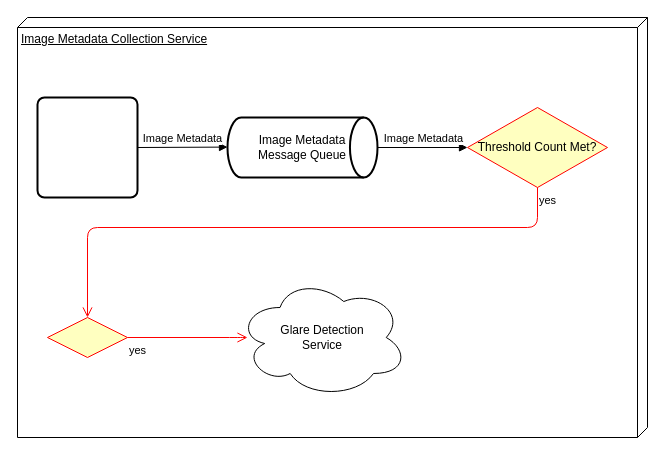
The diagram is 665 pixels wide and 455 high, and some of its shapes have lost their labels. Here are the shapes that lost their labels. From the top down, the centre of each, then its label:
the point at 87,147: Rate Limited Image Metadata Collection Process
the point at 87,337: Online?
